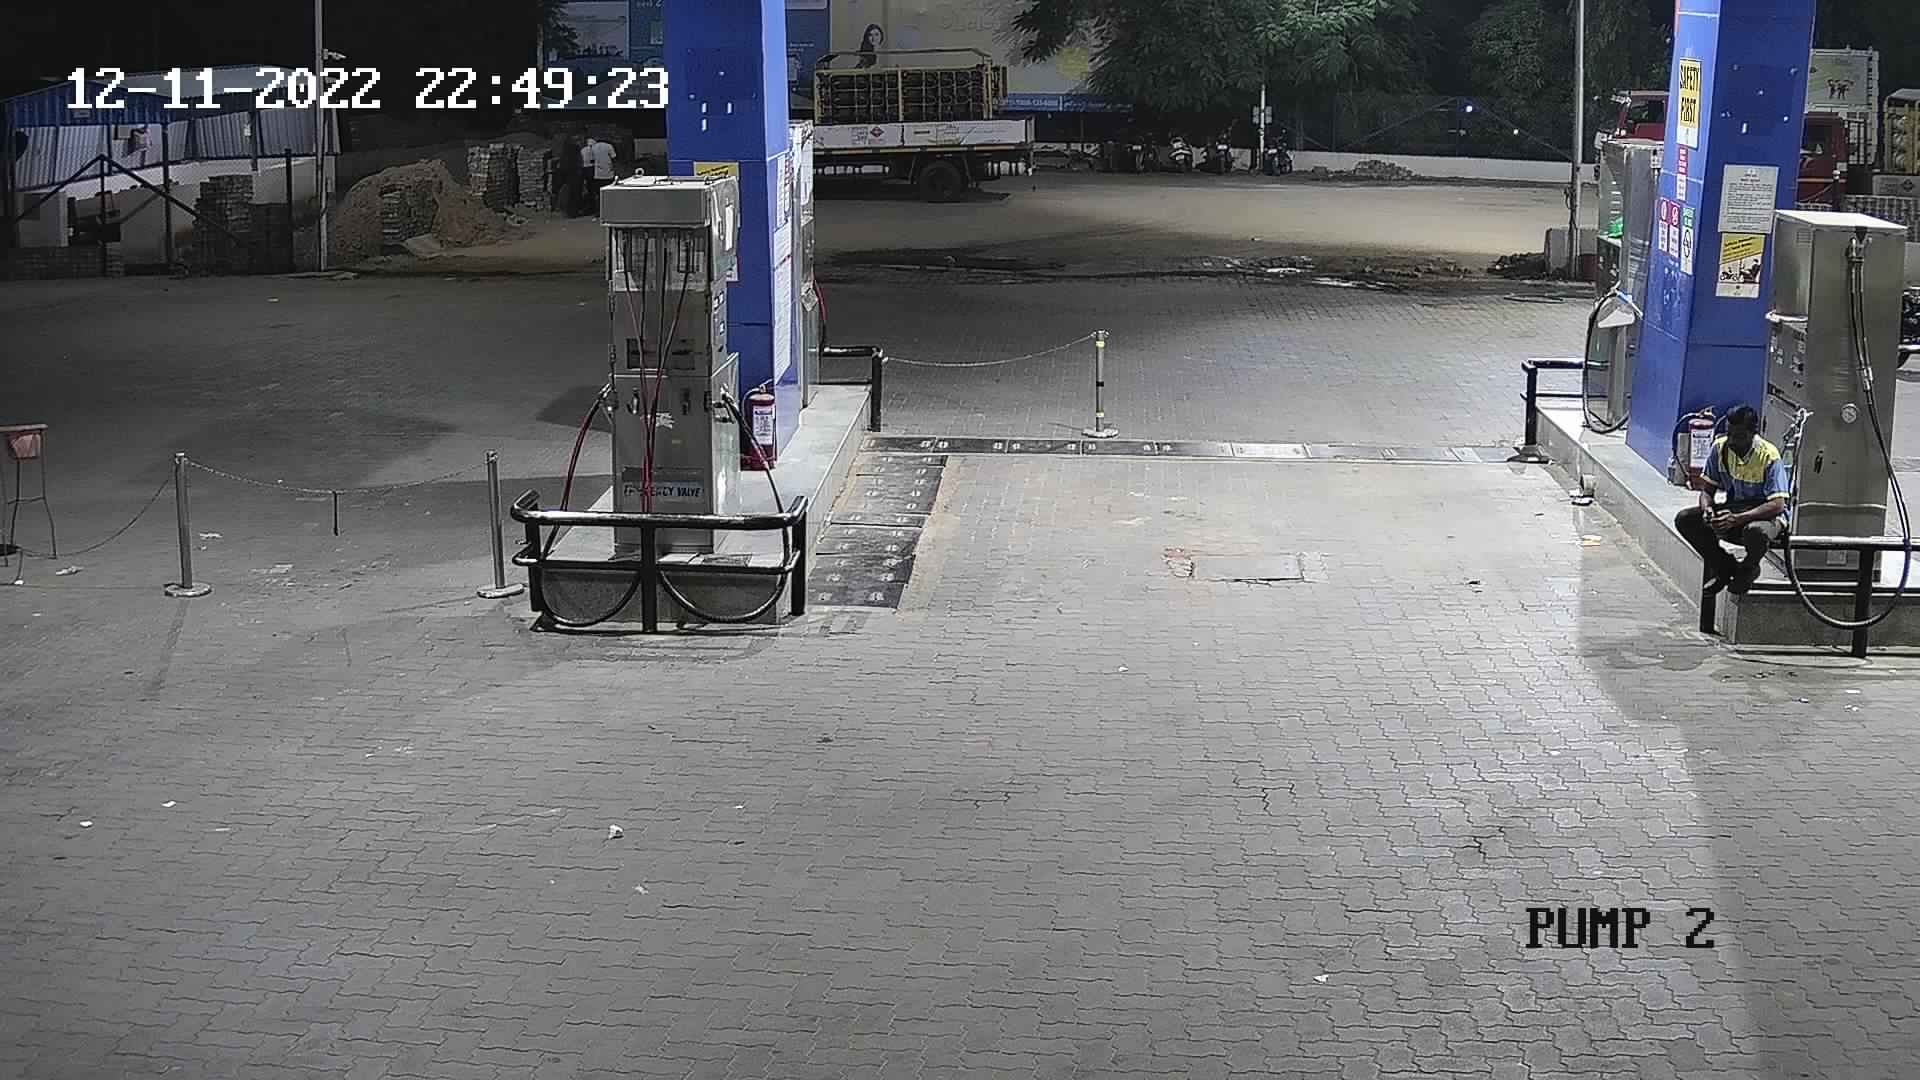Bike: (1249, 113, 1302, 182), (1156, 116, 1200, 179), (1124, 123, 1162, 187), (1200, 117, 1237, 177)
HMV: (785, 26, 1058, 210), (1778, 73, 1917, 225), (1578, 59, 1677, 208)
Others: (1665, 394, 1800, 603)
